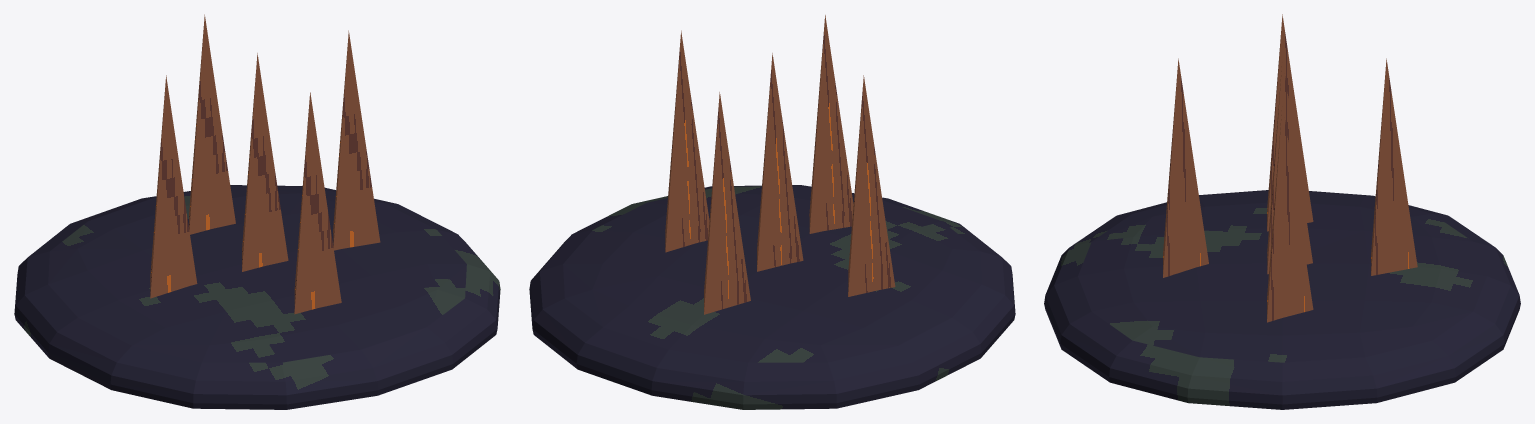
Rendered from PrototypeStormbird.obj.
3 renders of one model, left to right at view 1: azimuth 30°, elevation 25°; view 2: azimuth 150°, elevation 25°; view 3: azimuth 270°, elevation 25°, orthographic.
Visible parts, largest first — view 1: Base.002, Cone.006, Cone.003, Cone.004, Cone.005, Cone.007; view 2: Base.002, Cone.003, Cone.005, Cone.006, Cone.004, Cone.007; view 3: Base.002, Cone.004, Cone.005, Cone.006, Cone.003, Cone.007.
Part boxes in pixels (bbox=[...]): Base.002: bbox=[14, 185, 500, 409]; Cone.006: bbox=[294, 92, 341, 314]; Cone.003: bbox=[150, 75, 197, 298]; Cone.004: bbox=[333, 30, 380, 250]; Cone.005: bbox=[189, 14, 235, 234]; Cone.007: bbox=[242, 53, 288, 271]; Base.002: bbox=[529, 185, 1015, 409]; Cone.003: bbox=[848, 75, 895, 296]; Cone.005: bbox=[704, 92, 750, 314]; Cone.006: bbox=[809, 15, 853, 233]; Cone.004: bbox=[665, 30, 709, 252]; Cone.007: bbox=[757, 53, 803, 271]; Base.002: bbox=[1044, 190, 1520, 409]; Cone.004: bbox=[1267, 102, 1313, 322]; Cone.005: bbox=[1371, 58, 1417, 275]; Cone.006: bbox=[1163, 58, 1208, 277]; Cone.003: bbox=[1267, 14, 1313, 231]; Cone.007: bbox=[1267, 58, 1312, 274].
Bounding box in the file's own units: 0.9167 × 0.5491 × 0.9167.
